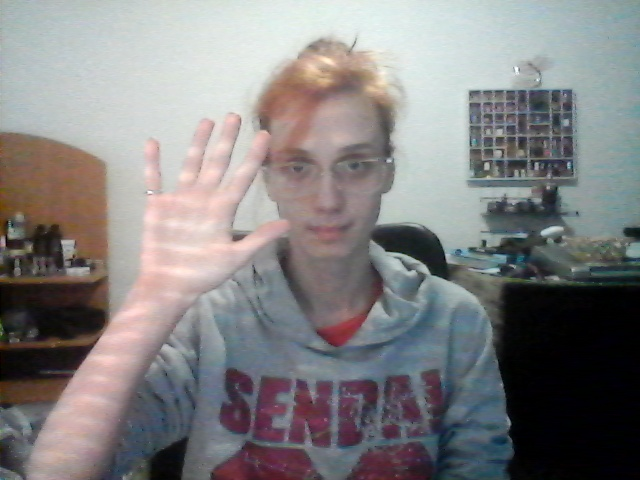ahoj: (129, 113, 295, 304)
